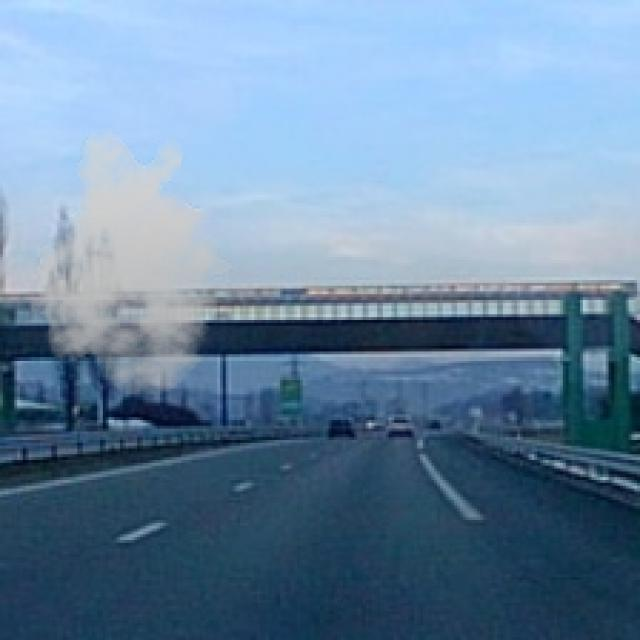Smoke: (23, 128, 243, 398)
